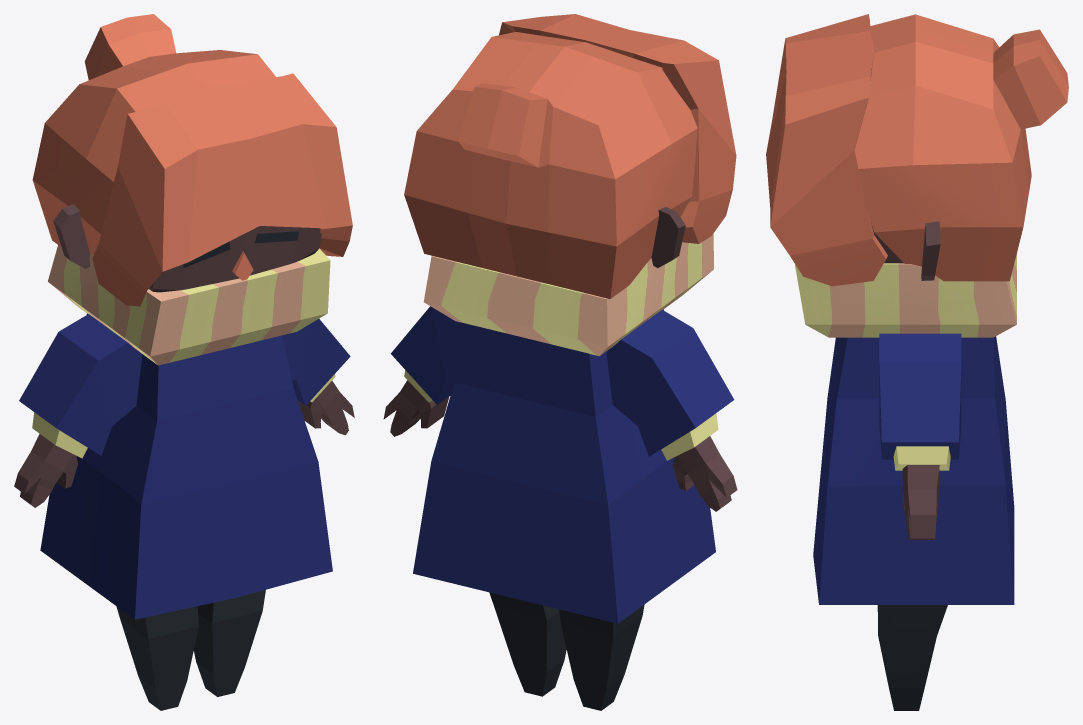
The model's file is Boy 2.fbx.
3 views of the same model, side by side, from view 1: azimuth 30°, elevation 25°; view 2: azimuth 150°, elevation 25°; view 3: azimuth 270°, elevation 25° (orthographic). The views are drawn at different scales.
Visible parts, largest first — view 1: Olhos; view 2: Olhos; view 3: Olhos.
Boxes of the visible parts, bbox=[...] form: Olhos: bbox=[14, 14, 354, 710]; Olhos: bbox=[383, 14, 737, 710]; Olhos: bbox=[766, 14, 1068, 710].
Bounding box in the file's own units: 111 × 204 × 85.74.
